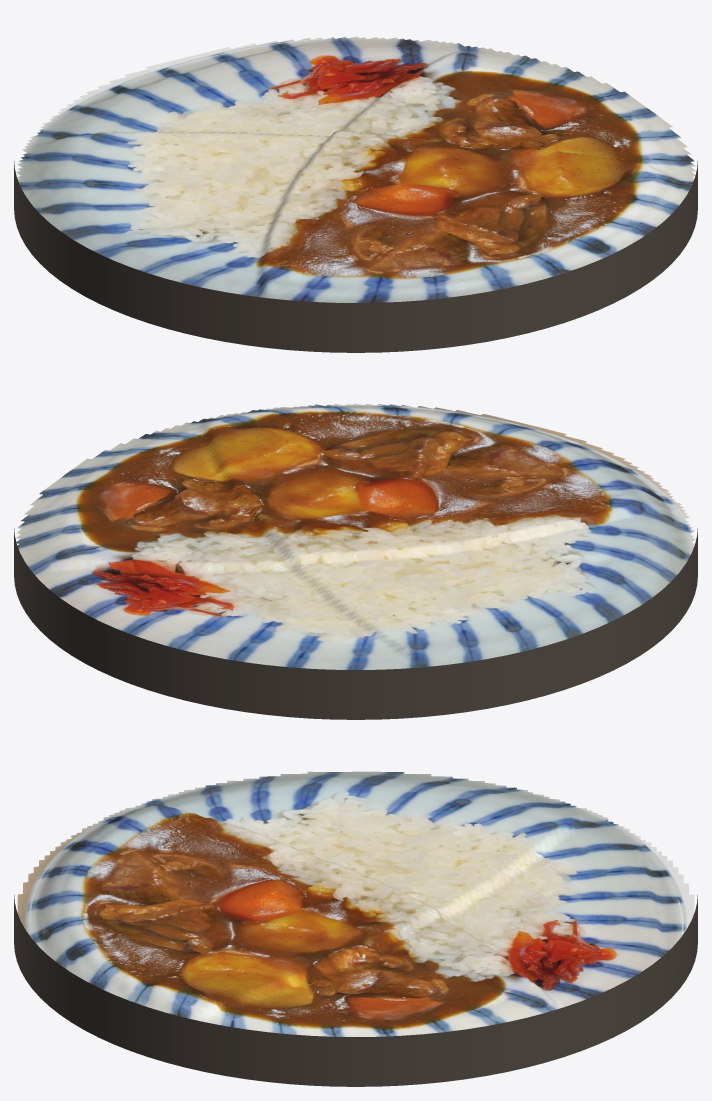
File: plato.glb
3 renders of one model, top to bottom at view 1: azimuth 30°, elevation 25°; view 2: azimuth 150°, elevation 25°; view 3: azimuth 270°, elevation 25°, orthographic.
Size of the model in its own units: 0.2985 by 0.024 by 0.2985.
2 materials, 1 textured.
